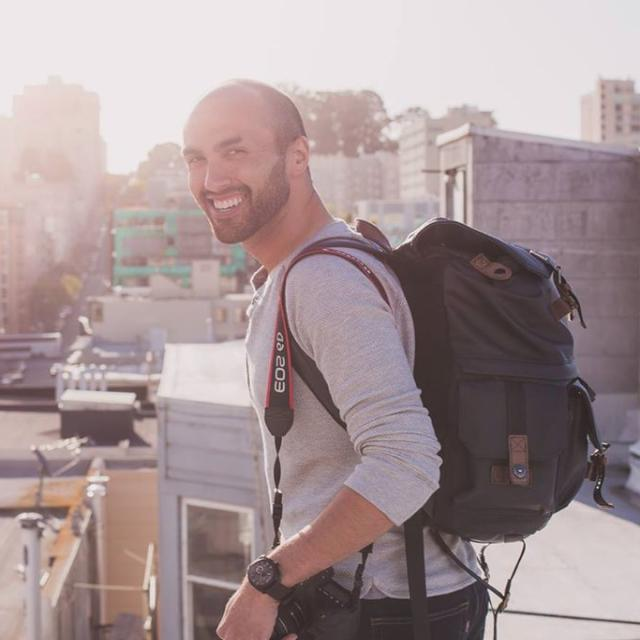adult: (185, 80, 482, 640)
